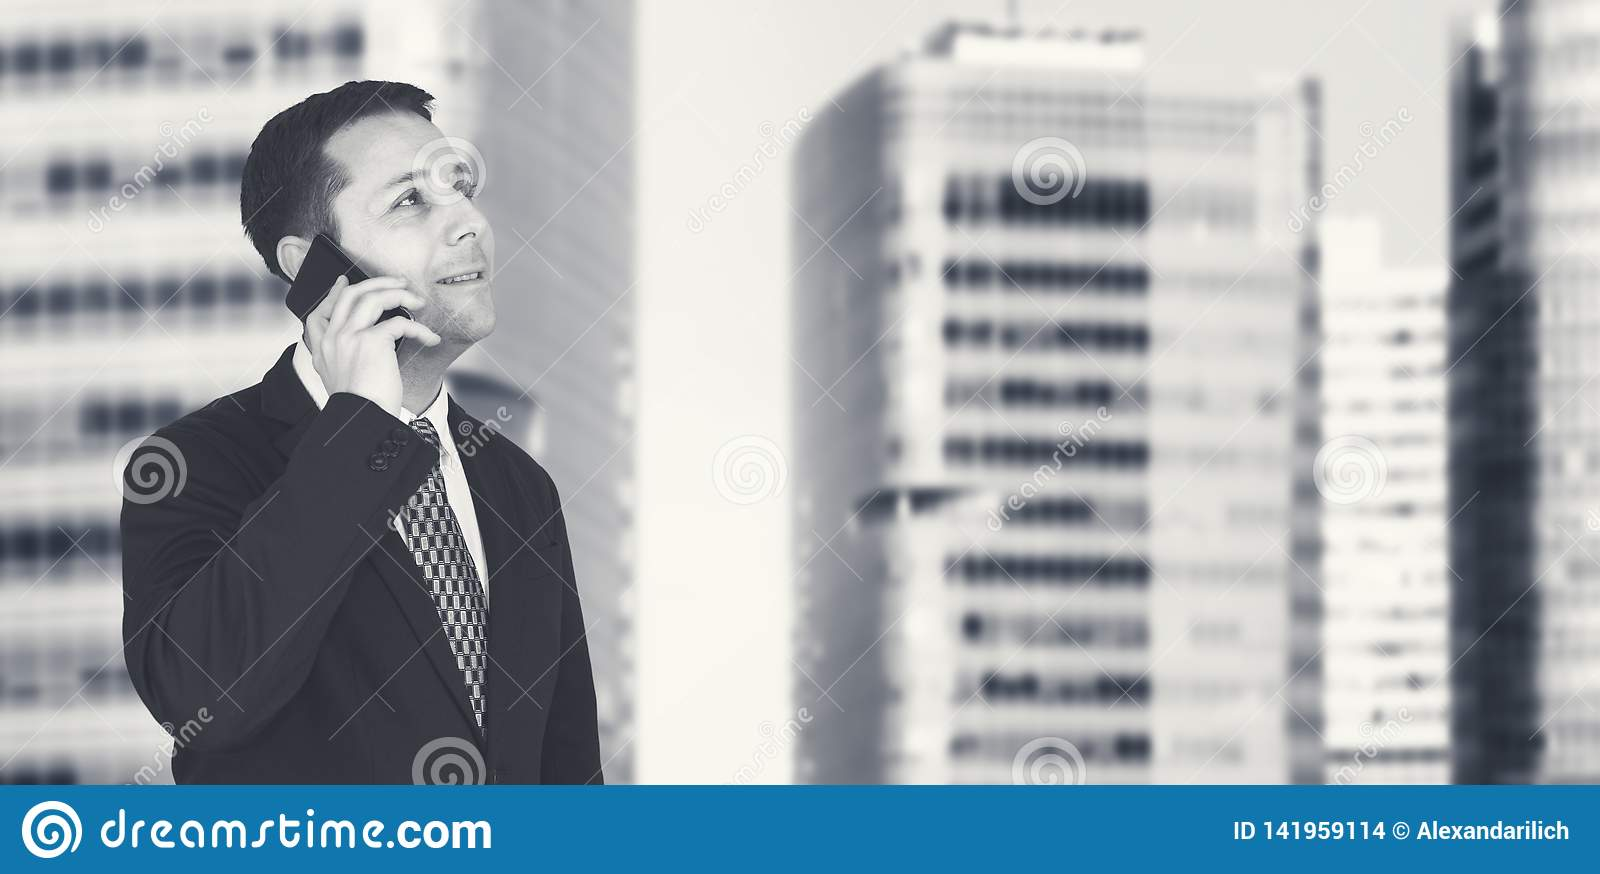phone: (286, 230, 417, 363)
talk: (285, 160, 500, 409)
